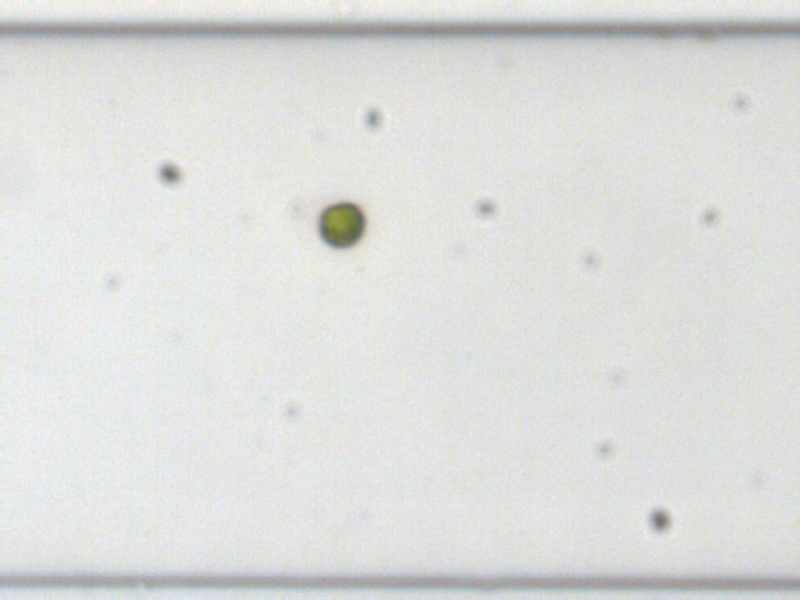Platymonas: (314, 200, 364, 249)
